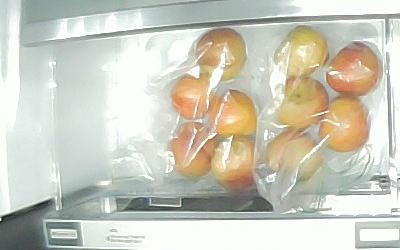prune_vinyl: (265, 128, 323, 183), (327, 42, 383, 95), (273, 26, 330, 78), (320, 95, 370, 153), (196, 27, 247, 83), (212, 135, 262, 191), (168, 120, 216, 177), (277, 77, 328, 128), (209, 88, 257, 140), (171, 73, 212, 121)
